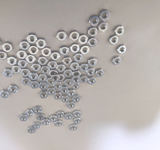nut: (36, 38, 47, 49), (90, 15, 100, 27), (100, 9, 110, 21), (2, 42, 13, 52), (7, 56, 18, 66), (18, 59, 29, 69), (41, 47, 52, 57), (115, 25, 125, 36), (16, 50, 28, 59), (27, 34, 37, 44), (38, 56, 48, 66), (57, 31, 67, 41), (70, 31, 80, 41), (88, 27, 98, 37), (98, 22, 108, 32), (80, 63, 90, 73), (95, 68, 105, 78), (31, 63, 42, 72), (4, 68, 13, 78), (0, 90, 10, 99), (8, 85, 18, 94), (20, 41, 30, 50), (29, 46, 39, 55), (21, 77, 31, 86), (48, 61, 58, 70), (57, 63, 66, 73), (70, 62, 80, 71), (60, 46, 69, 56), (71, 43, 80, 53), (79, 35, 88, 45), (81, 45, 90, 55), (88, 37, 97, 47), (113, 56, 122, 66), (118, 44, 127, 54), (71, 62, 80, 72), (87, 77, 97, 86), (88, 58, 98, 67), (39, 82, 48, 91), (41, 66, 50, 75), (47, 87, 56, 96), (72, 95, 81, 104), (110, 36, 119, 45), (74, 53, 83, 62), (64, 69, 73, 78), (80, 75, 89, 84), (87, 68, 96, 77), (26, 55, 36, 63), (21, 69, 31, 77), (51, 52, 61, 60), (72, 71, 82, 79), (13, 66, 22, 74), (39, 91, 48, 99), (60, 86, 68, 95), (67, 89, 76, 97), (64, 79, 73, 87), (19, 114, 28, 122), (34, 106, 42, 115), (49, 115, 58, 123), (65, 112, 73, 121), (69, 124, 78, 132), (73, 110, 82, 118), (63, 57, 72, 65), (72, 76, 81, 84), (29, 73, 39, 80), (39, 74, 47, 82), (31, 81, 39, 89), (47, 78, 55, 86), (26, 109, 34, 117), (55, 120, 63, 128), (74, 118, 82, 126), (0, 51, 7, 60), (49, 70, 58, 77), (54, 82, 63, 89), (61, 96, 70, 103), (66, 102, 75, 109), (72, 83, 81, 90), (55, 92, 62, 100), (52, 75, 60, 82), (58, 74, 65, 82), (28, 127, 36, 134), (34, 122, 42, 129), (43, 119, 50, 126), (58, 111, 64, 119)
